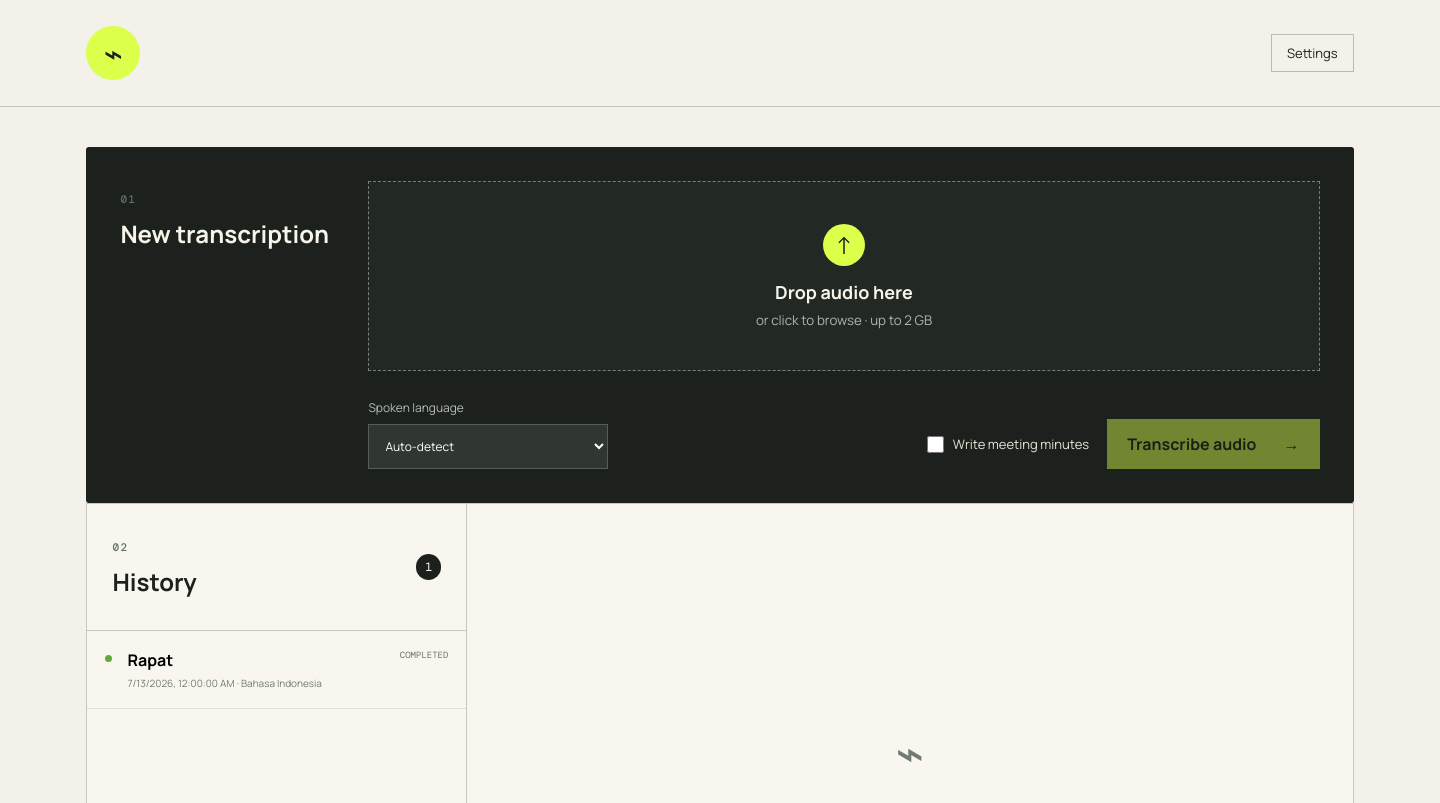
offers Indonesian upload and renders a saved timestamped transcript
Click the button "Rapat 7/13/2026, 12:00:00 AM · Bahasa Indonesia completed". click: (150, 660)
box: [87,631,466,709]
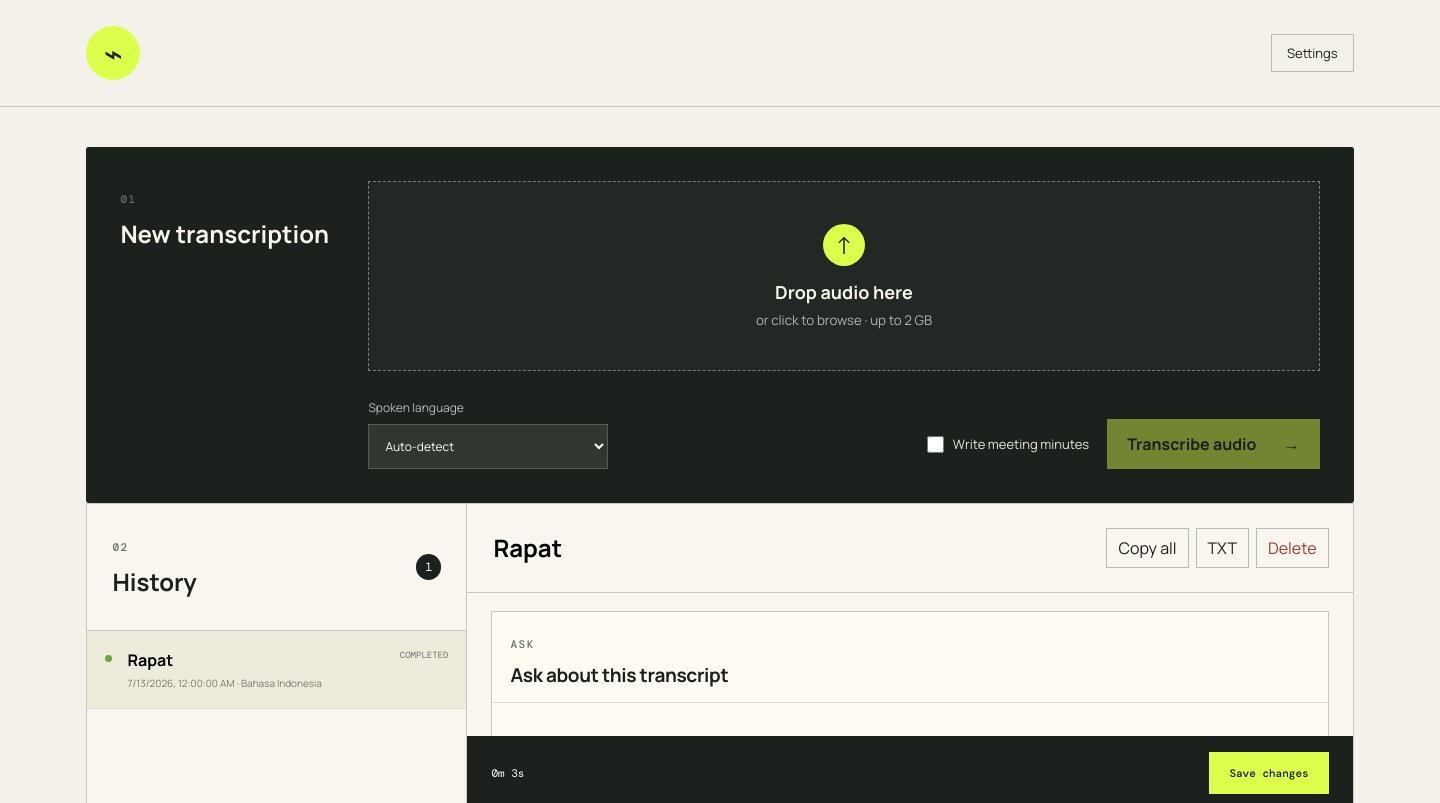
Expected: the button "Save changes" is shown, [1209,752,1329,794]
